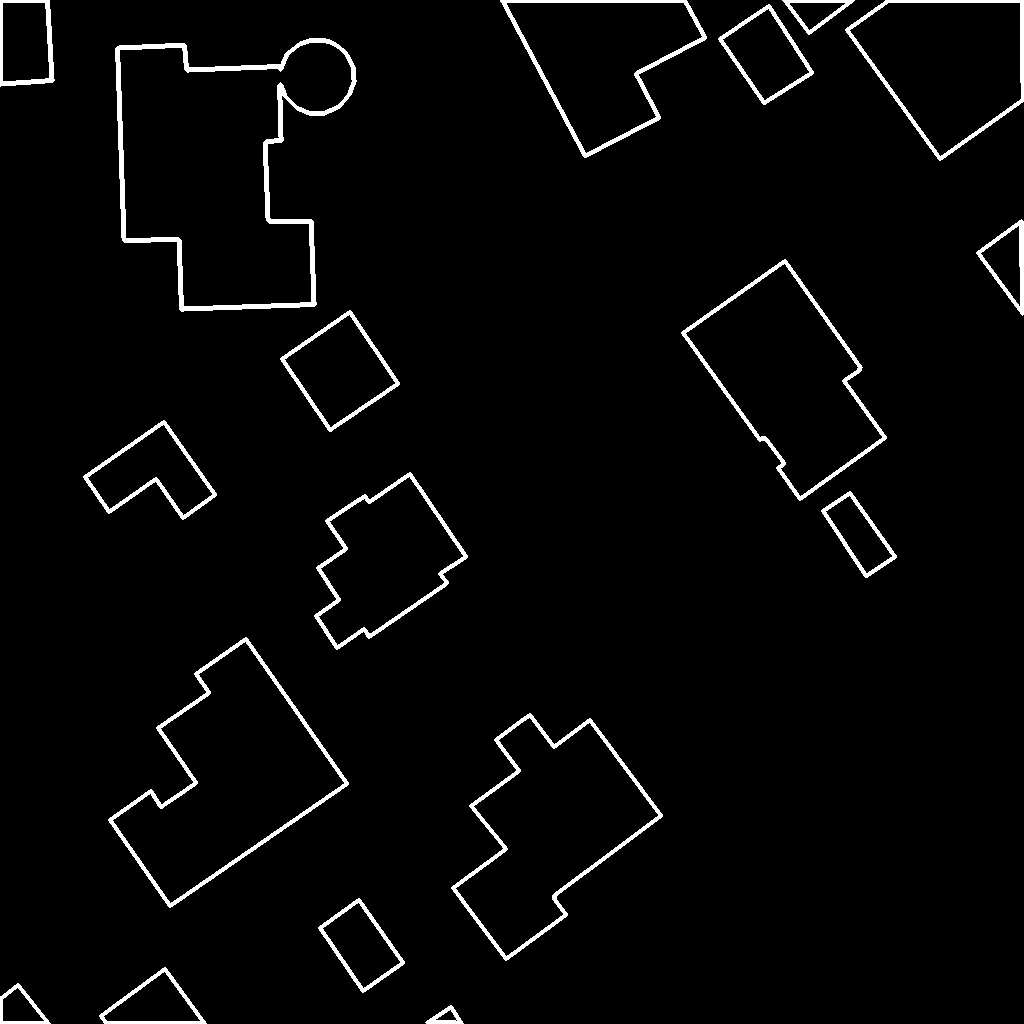building: (110, 639, 348, 907), (117, 45, 315, 310), (453, 715, 662, 960), (683, 261, 886, 500), (502, 0, 706, 157), (847, 0, 1024, 160), (316, 474, 467, 649), (282, 312, 399, 431), (85, 422, 216, 519), (720, 6, 813, 104), (320, 900, 404, 992), (823, 493, 896, 577), (101, 969, 206, 1024), (280, 40, 355, 114), (0, 0, 53, 85), (978, 221, 1024, 315), (784, 0, 854, 34), (0, 985, 50, 1024), (427, 1007, 463, 1024)
